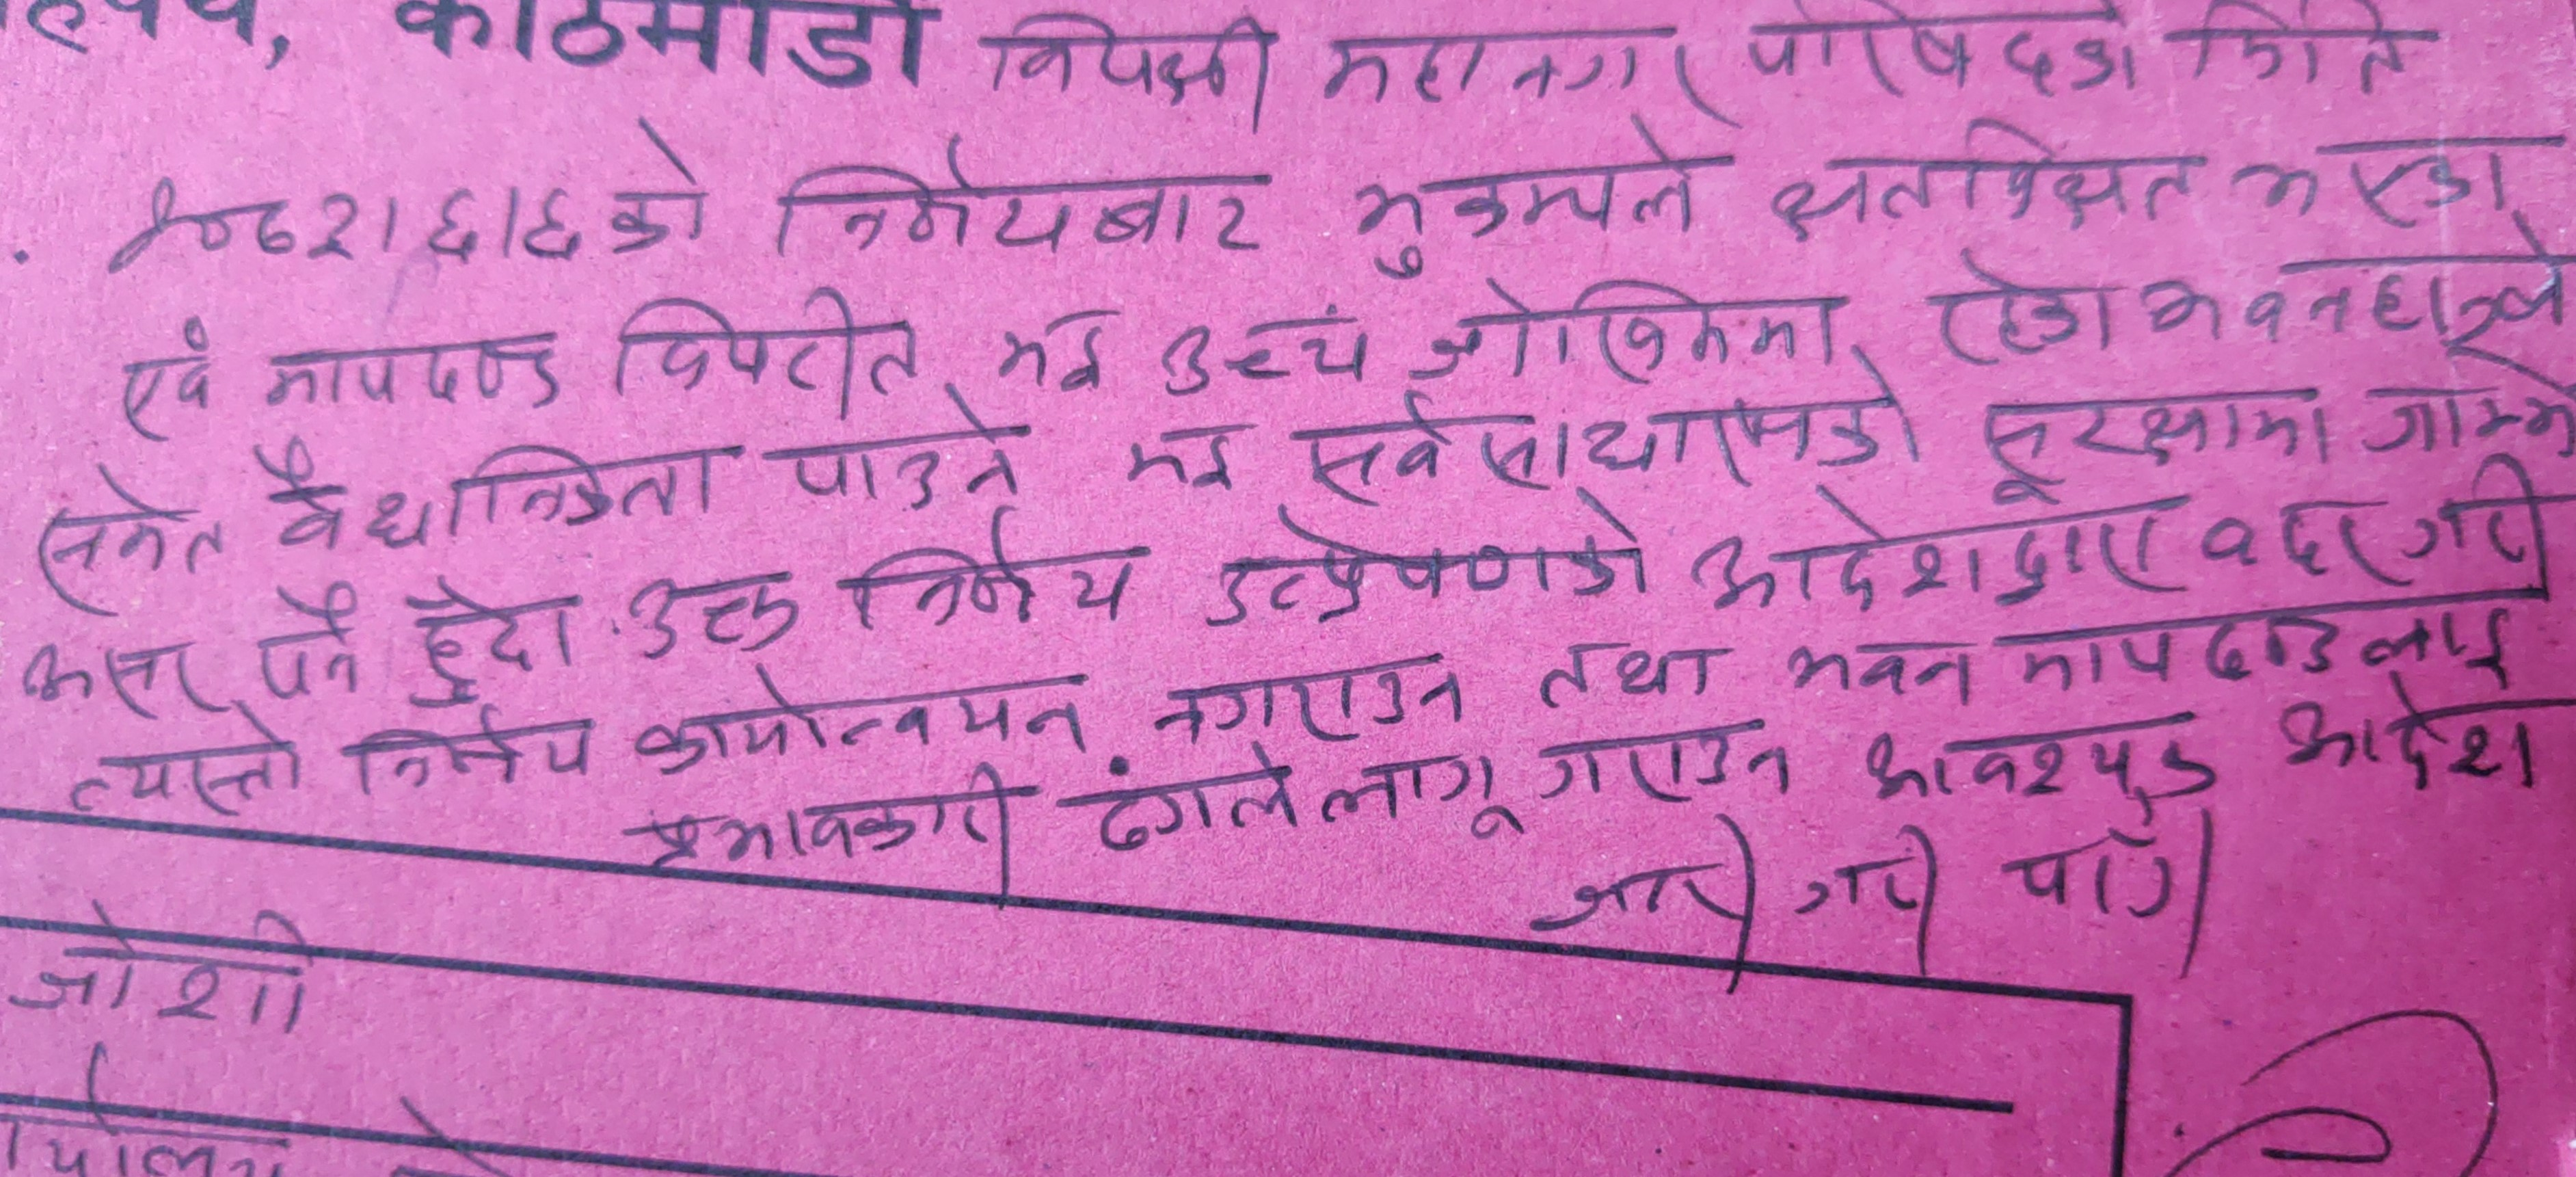text: (94, 110, 726, 279), (1291, 380, 1937, 501), (245, 426, 743, 565), (1687, 480, 2192, 612), (766, 135, 1280, 263), (1191, 501, 1676, 635), (1329, 122, 1722, 281), (1768, 110, 2206, 250), (619, 666, 1111, 774), (2139, 233, 2576, 353), (1406, 273, 1858, 386), (632, 764, 1028, 891), (600, 279, 935, 419), (16, 891, 315, 1044), (1318, 12, 1712, 118), (1970, 380, 2338, 493), (1738, 8, 2162, 104), (2256, 669, 2546, 807), (836, 519, 1158, 643), (2193, 582, 2551, 689), (1539, 814, 1768, 973), (1858, 728, 2218, 829), (1989, 810, 2236, 953), (1129, 648, 1479, 748), (979, 12, 1286, 122), (1904, 233, 2129, 380), (394, 556, 593, 709), (253, 327, 577, 419), (26, 480, 232, 623), (345, 705, 595, 822), (774, 416, 1045, 523), (2223, 130, 2517, 227), (49, 738, 319, 835), (1316, 741, 1533, 855), (2188, 2, 2425, 105), (1529, 728, 1807, 815), (2201, 464, 2384, 595), (1155, 301, 1383, 403), (1074, 764, 1313, 861), (1794, 815, 1953, 960), (2354, 357, 2576, 455), (616, 556, 803, 672), (1774, 615, 1989, 715), (2392, 459, 2564, 579), (16, 623, 222, 722), (1513, 628, 1728, 718), (102, 311, 222, 459), (2009, 608, 2192, 705), (248, 582, 378, 715), (991, 301, 1120, 413), (1112, 413, 1253, 510)
